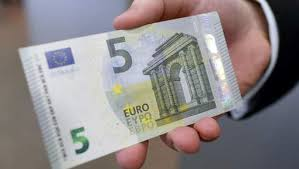billete: (18, 11, 244, 169)
